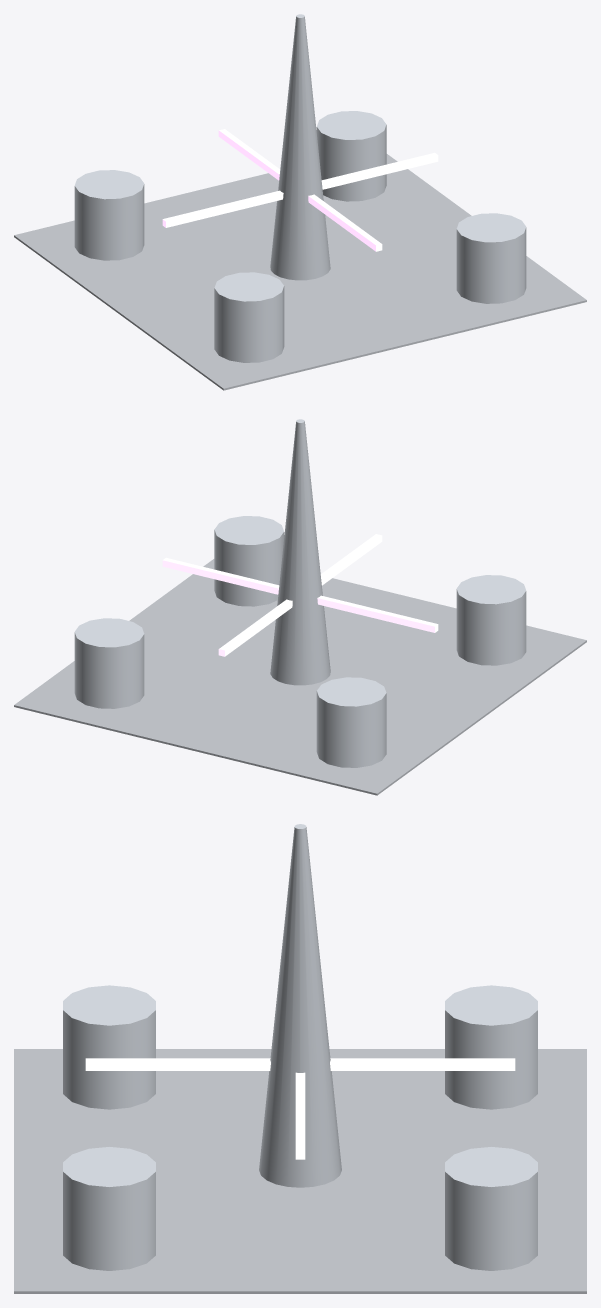
Rendered from convergence_array.glb.
The picture shows the model from 3 angles, top to bottom: view 1: azimuth 30°, elevation 25°; view 2: azimuth 150°, elevation 25°; view 3: azimuth 270°, elevation 25°; orthographic projection. The views are drawn at different scales.
Visible parts, largest first — view 1: Pad, Spire, Dish2, Dish1, Dish4, Dish3, Ring1, Ring2; view 2: Pad, Spire, Dish4, Dish2, Dish3, Dish1, Ring1, Ring2; view 3: Pad, Spire, Dish1, Dish3, Dish2, Dish4, Ring2, Ring1.
Part boxes in pixels (x1,y1,x2,y2): Pad: (14,154,586,390); Spire: (270,14,330,280); Dish2: (74,170,144,260); Dish1: (456,213,526,303); Dish4: (214,272,284,362); Dish3: (316,111,386,201); Ring1: (162,152,438,227); Ring2: (218,129,382,251); Pad: (14,559,586,795); Spire: (270,419,330,685); Dish4: (456,575,526,665); Dish2: (316,677,386,767); Dish3: (74,618,144,708); Dish1: (214,516,284,606); Ring1: (162,557,438,632); Ring2: (218,534,382,656); Pad: (14,1049,586,1293); Spire: (259,824,341,1187); Dish1: (63,1147,155,1270); Dish3: (445,1147,537,1270); Dish2: (445,985,537,1109); Dish4: (63,985,155,1109); Ring2: (85,1058,515,1070); Ring1: (295,1072,305,1159).
Bounding box in the file's own units: 4.8 × 3.2 × 4.8.
